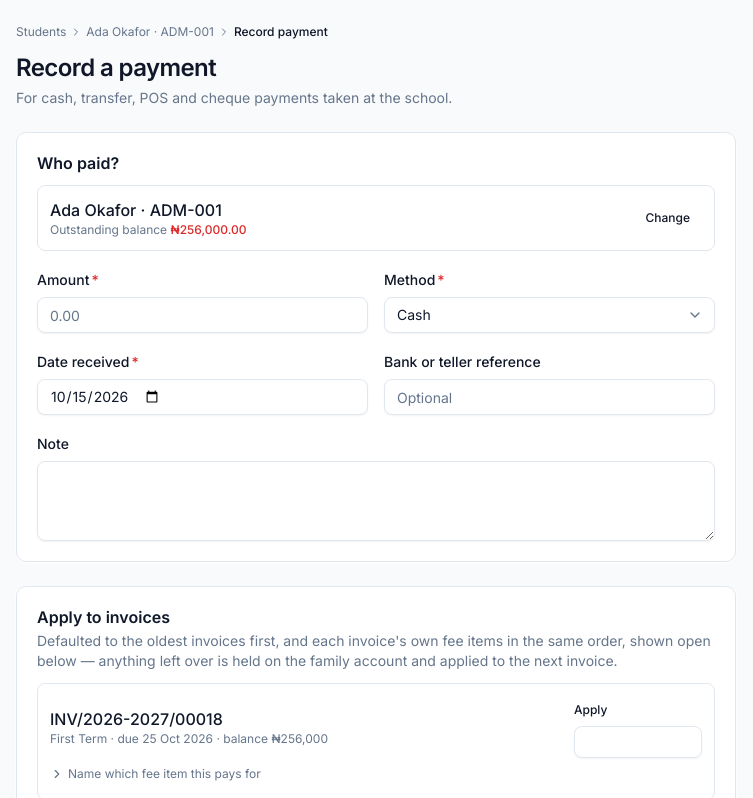
Test case: PaymentFormPage fee-item tally › opting out: naming amounts by hand › blocks the payment once a hand-typed amount leaves the fee items mismatched
Type "100000" into the number field labelled "Amount*" at (202, 315), box [37,297,368,333]
(page scrolled)
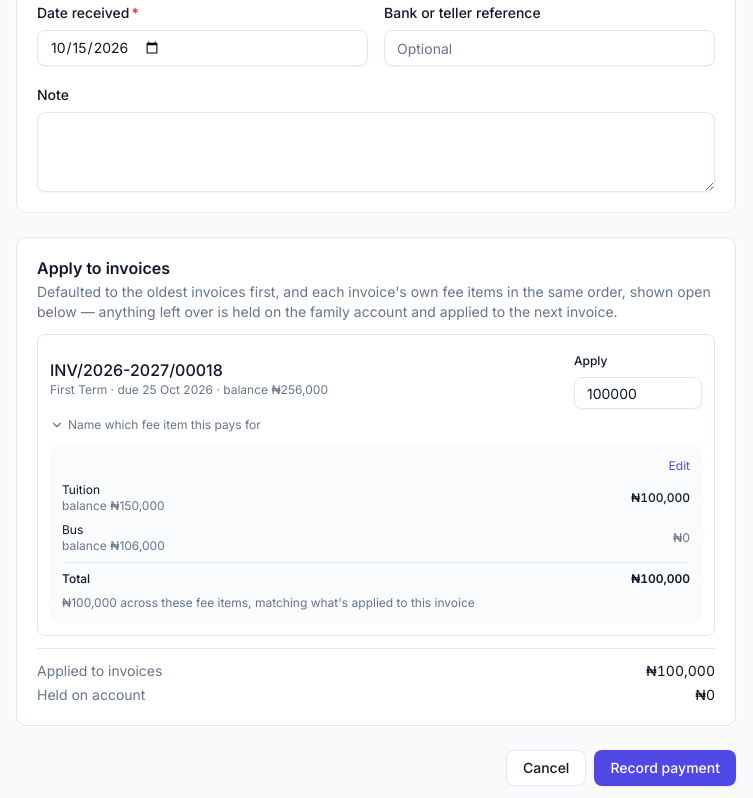
Expected: the text "Tuition" is shown, [62,482,100,497]
Click the button "Edit" at (679, 466), box [669,458,690,474]
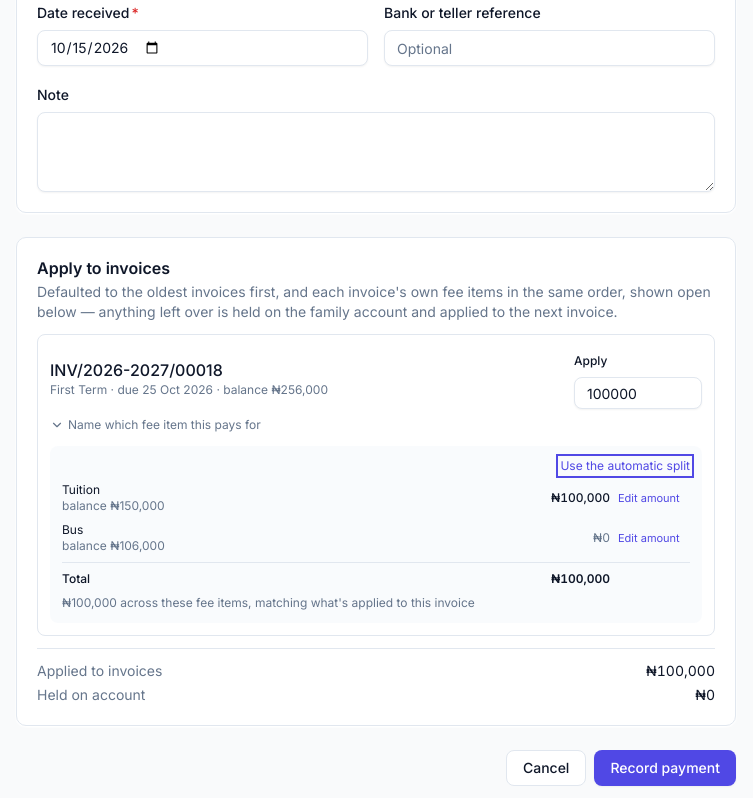
Click the button "Edit amount" in the row of "Tuition" at (654, 498), box [618,490,690,506]
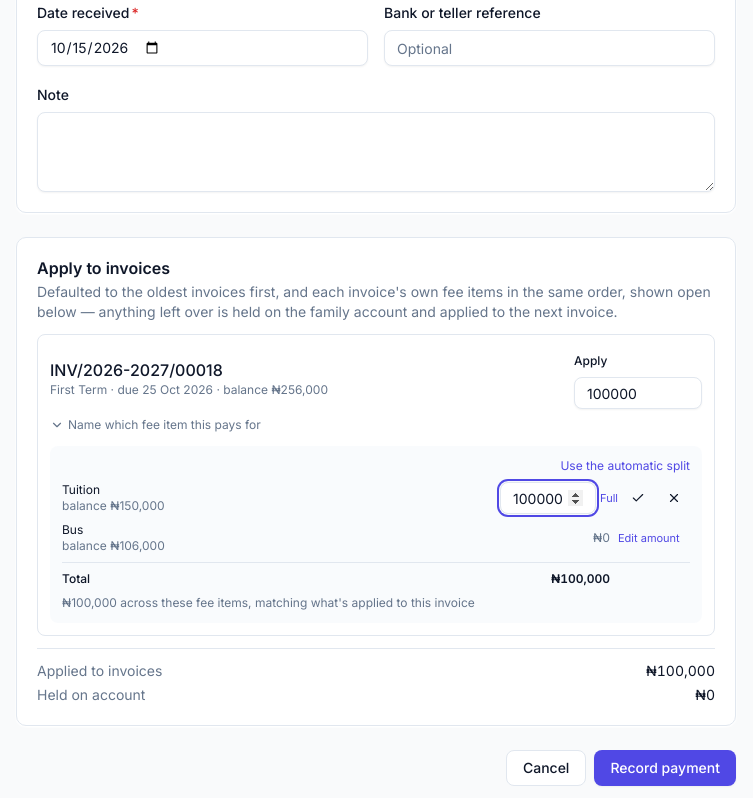
Replace the text in the number field with test id "finance-payment-form-line-line-a" with "50000" at (548, 498), box [500,482,596,514]
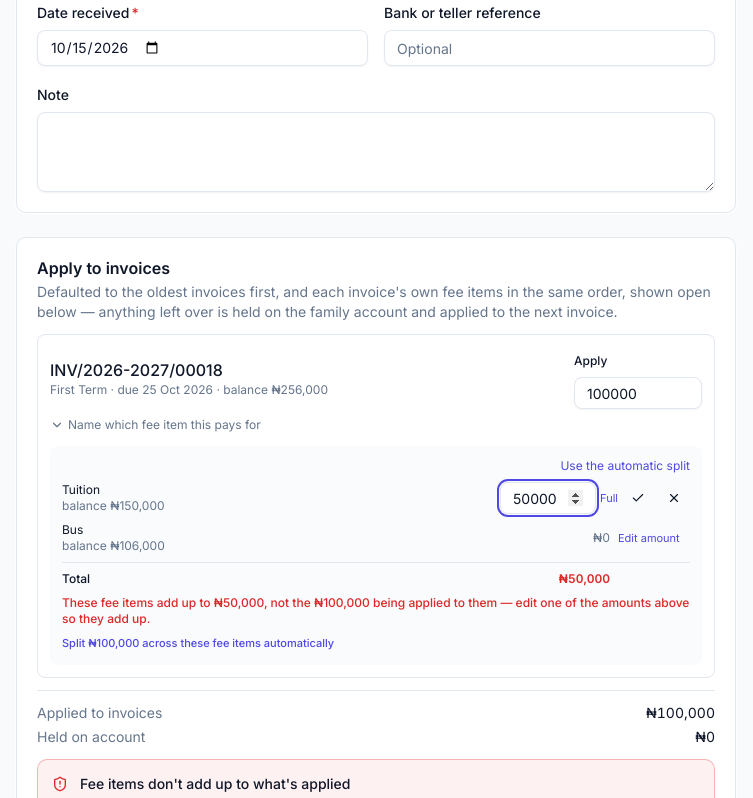
Click the button named "Done" at (638, 498), box [622,482,654,514]
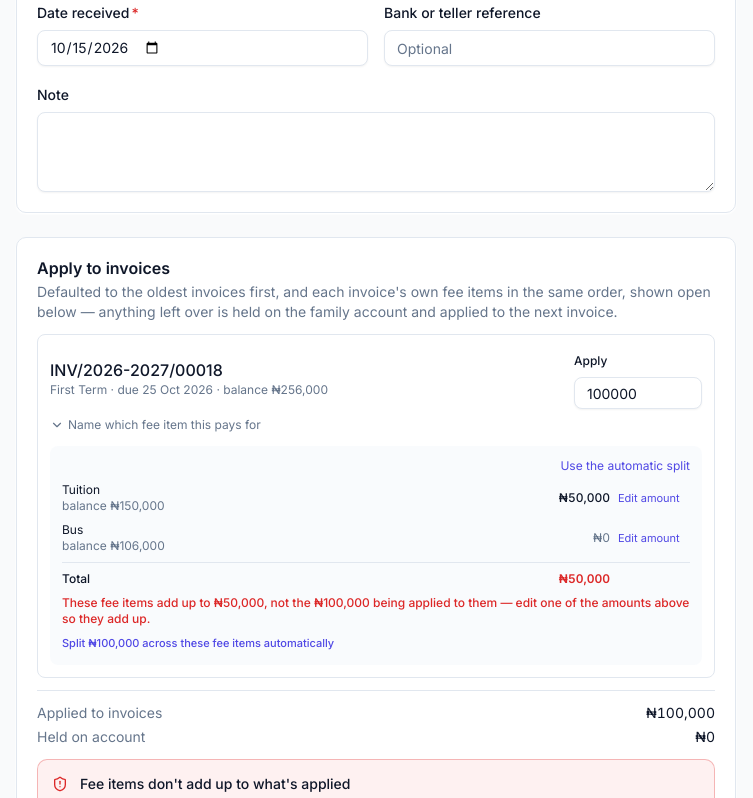
Expected: the text "Fee items don't add up to what's applied" is shown, [80,775,350,792]
# Closing it while still mismatched is a choice — not fought back open.
Click the button "Name which fee item this pays for" at (155, 425), box [50,417,261,433]
(page scrolled)
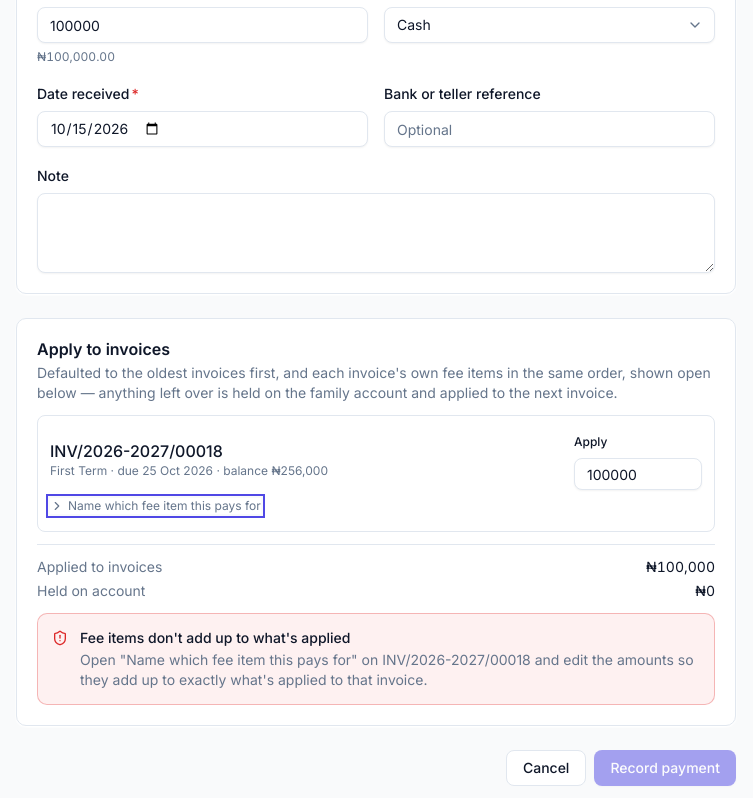
Expected: the button "Record payment" is disabled, [594,750,736,786]
Expected: the text "Tuition" is gone
